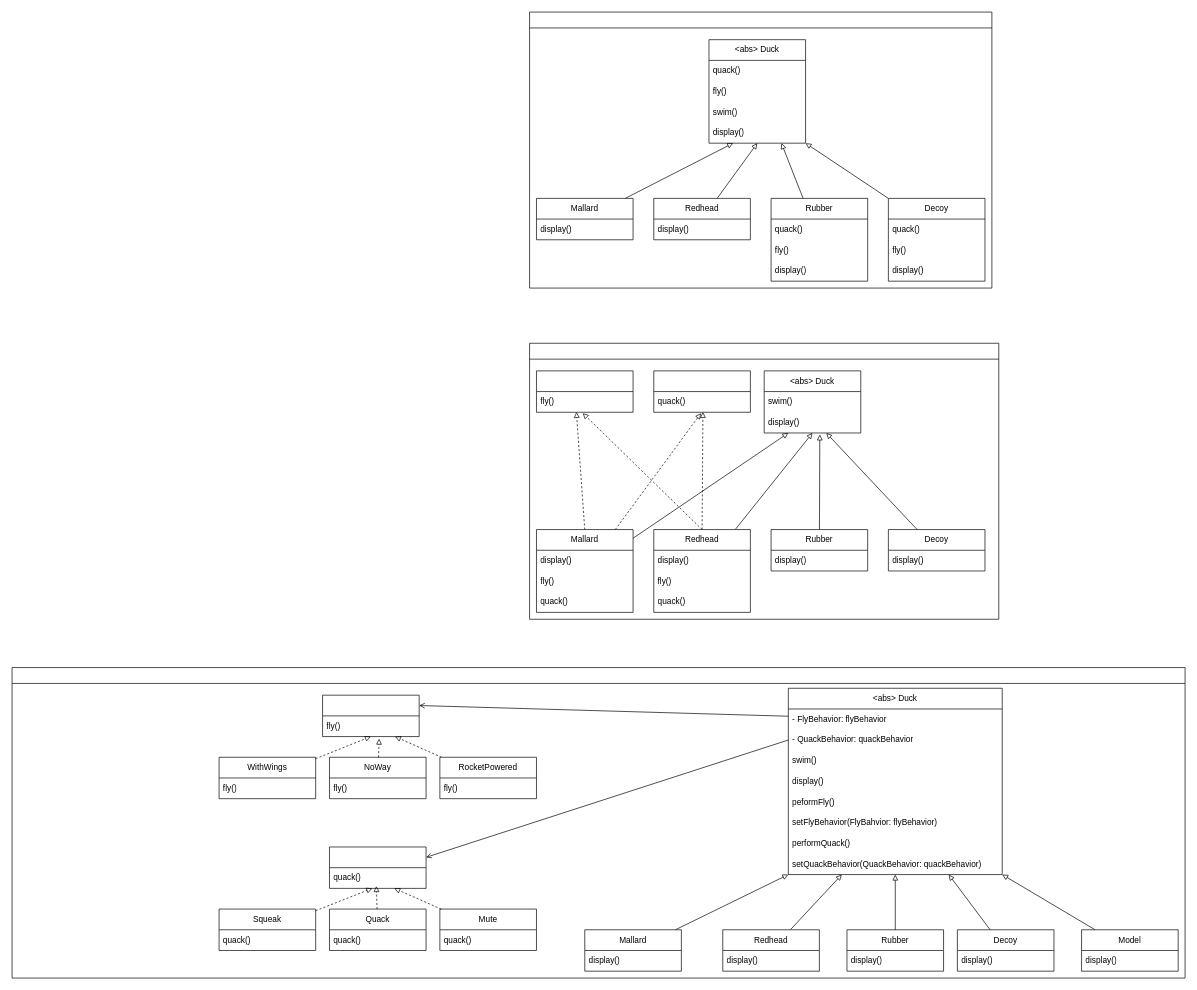
This 1197x990 diagram has some shape labels left out. The box of each missing label's shape, as (x1, y1, x2, y2) in pixels:
<i> Flyable: (536, 370, 633, 412)
<i> FlyBehavior: (322, 694, 419, 737)
<i> Quackable: (653, 370, 750, 412)
<i> QuackBehavior: (329, 846, 426, 888)
Desing V1: (529, 11, 992, 288)
Desing V2: (529, 343, 999, 619)
Desing V3: (11, 667, 1185, 978)
